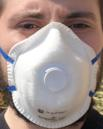with_mask: (2, 1, 103, 129)
